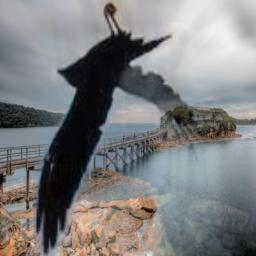Crow: (33, 0, 206, 256)
